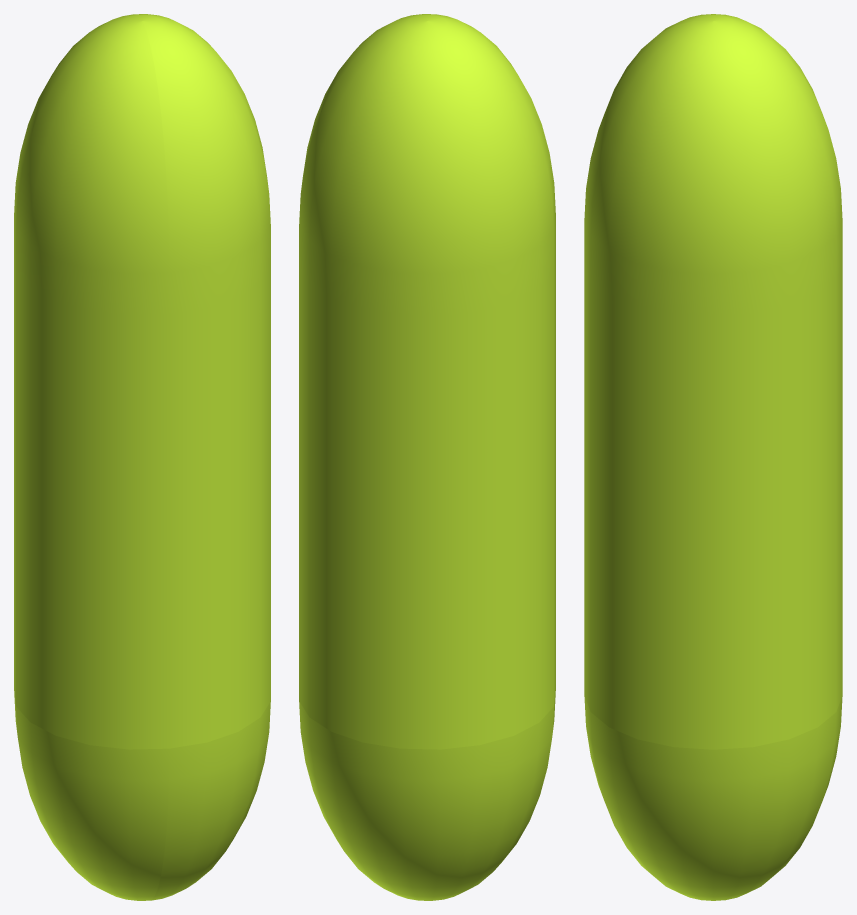
Rendered from treetrunkspatadelder.obj.
3 views of the same model, side by side, from view 1: azimuth 30°, elevation 25°; view 2: azimuth 150°, elevation 25°; view 3: azimuth 270°, elevation 25° (orthographic).
Parts seen in each view (by area): view 1: TtPataDelDer; view 2: TtPataDelDer; view 3: TtPataDelDer.
Part boxes in pixels (left/top/right/bottom): TtPataDelDer: left=14, top=14, right=270, bottom=900; TtPataDelDer: left=299, top=14, right=555, bottom=900; TtPataDelDer: left=584, top=14, right=842, bottom=900.
Bounding box in the file's own units: 0.2073 × 0.7733 × 0.2073.
